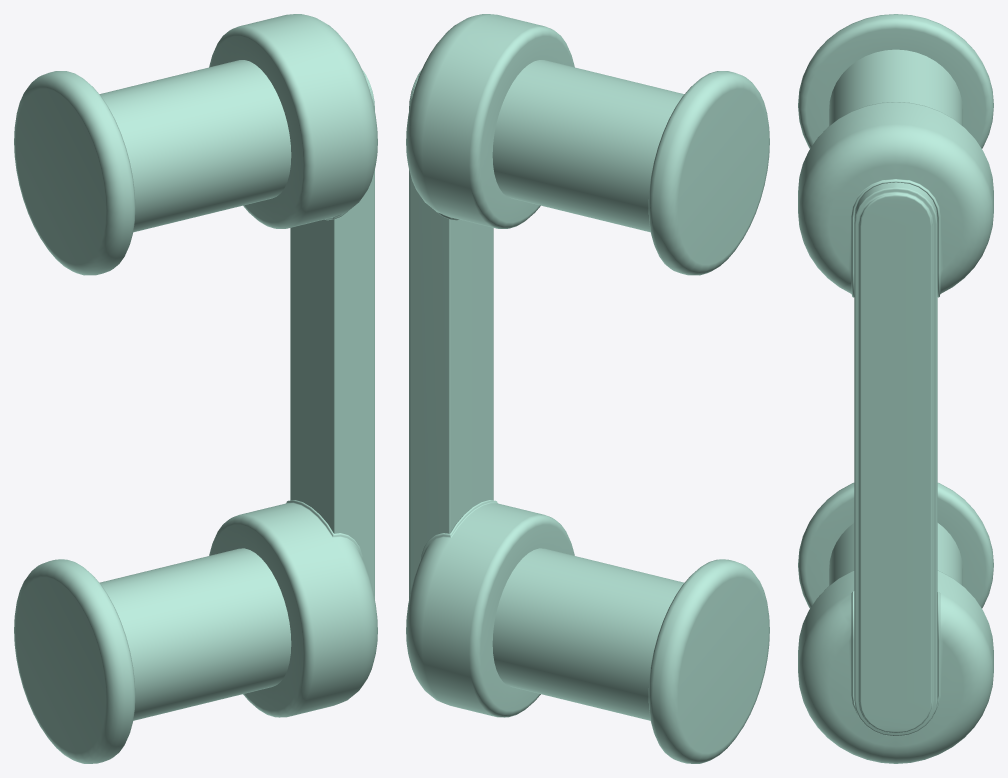
The model's file is SM_Robot_Hand_part03.fbx.
3 renders of one model, left to right at view 1: azimuth 30°, elevation 25°; view 2: azimuth 150°, elevation 25°; view 3: azimuth 270°, elevation 25°, orthographic. The views are drawn at different scales.
Visible parts, largest first — view 1: SM_Robot_Hand_part03; view 2: SM_Robot_Hand_part03; view 3: SM_Robot_Hand_part03.
Boxes of the visible parts, bbox=[...] form: SM_Robot_Hand_part03: bbox=[14, 14, 377, 763]; SM_Robot_Hand_part03: bbox=[406, 14, 769, 763]; SM_Robot_Hand_part03: bbox=[798, 14, 993, 763].
Size of the model in its own units: 54.46 by 119 by 33.2.
